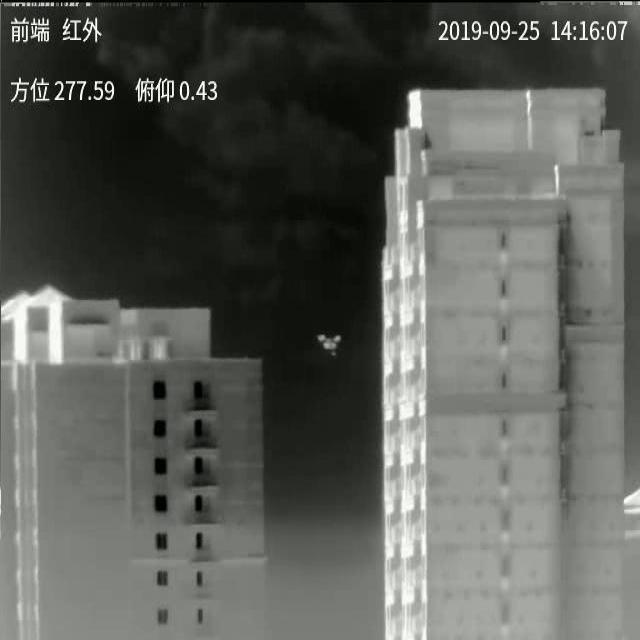drone: (317, 335, 342, 356)
